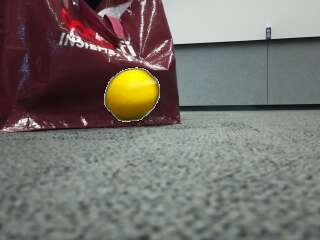lemon: (107, 70, 159, 121)
